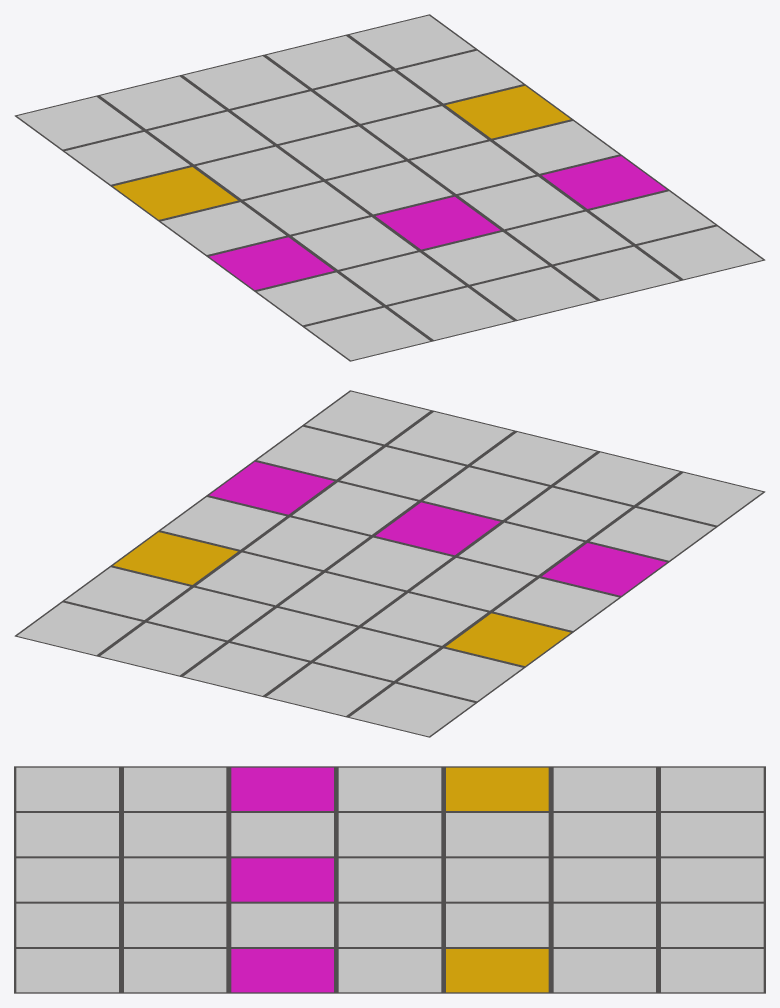
The picture shows the model from 3 angles, top to bottom: view 1: azimuth 30°, elevation 25°; view 2: azimuth 150°, elevation 25°; view 3: azimuth 270°, elevation 25°; orthographic projection. The views are drawn at different scales.
Parts seen in each view (by area): view 1: Plane.001; view 2: Plane.001; view 3: Plane.001.
Part boxes in pixels (x1,y1,x2,y2): Plane.001: (14, 14, 765, 361); Plane.001: (14, 390, 765, 737); Plane.001: (14, 766, 765, 993).
Size of the model in its own units: 767 by 3.35e-05 by 1074.
